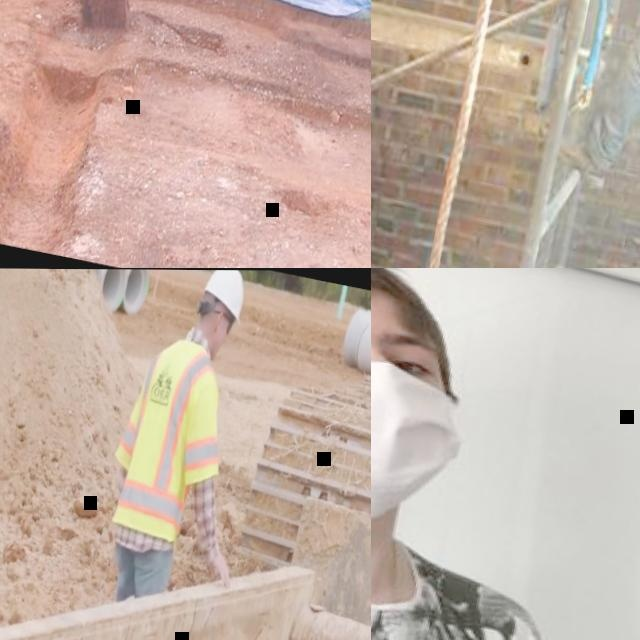Hardhat: (198, 270, 251, 323)
Mask: (371, 334, 471, 533)
NO-Hardhat: (371, 268, 449, 331)
NO-Mask: (208, 328, 227, 361)
NO-Safety Vest: (371, 509, 529, 640)
Person: (371, 268, 640, 640), (91, 269, 290, 620), (528, 0, 640, 268)
Safety Vest: (106, 339, 238, 532)
machinery: (232, 273, 371, 635), (60, 0, 335, 73)
